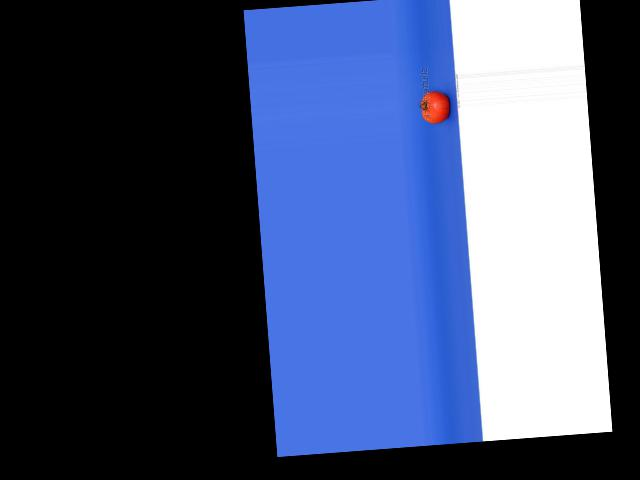tomato: (420, 90, 451, 125)
